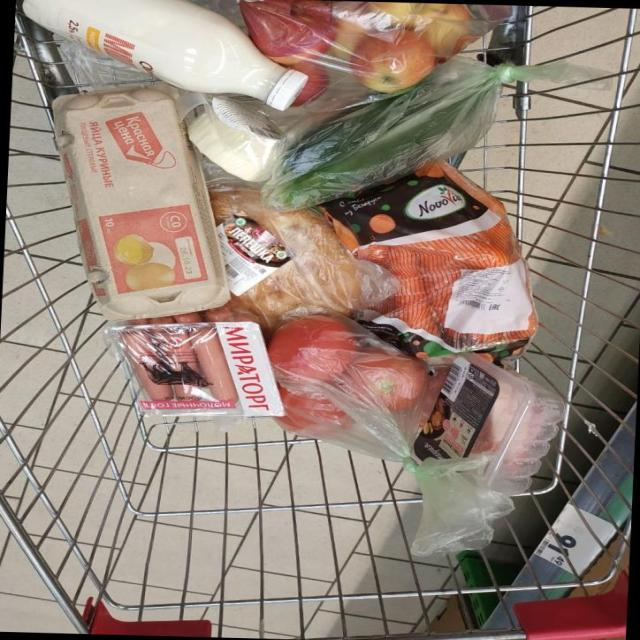apple: (187, 49, 597, 136), (213, 28, 640, 86), (166, 37, 480, 99), (165, 22, 450, 79), (190, 24, 539, 46), (221, 9, 640, 12)
carrot: (223, 167, 640, 466), (229, 130, 640, 383), (259, 120, 640, 358)
cheese: (147, 74, 419, 196)
cucumber: (194, 71, 572, 210), (193, 67, 587, 187)
egg: (36, 120, 128, 412)
milk: (0, 0, 76, 44)
tomato: (202, 208, 625, 599), (179, 216, 528, 631), (182, 172, 524, 490)
